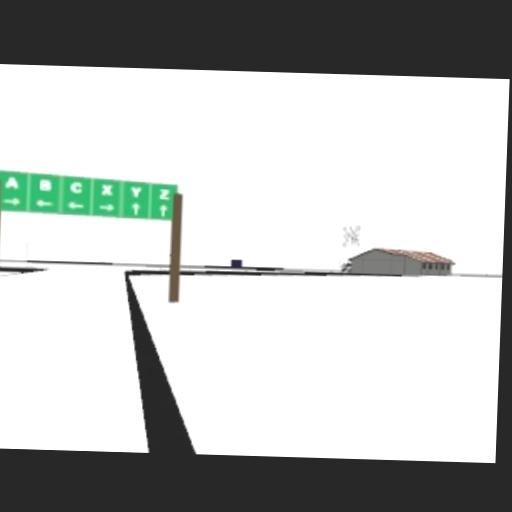A: (4, 176, 20, 191)
B: (38, 179, 52, 192)
C: (70, 180, 84, 197)
Left: (34, 199, 55, 210), (66, 200, 85, 211)
Right: (3, 196, 22, 207), (97, 202, 116, 213)
Straight: (131, 202, 142, 217), (158, 205, 169, 219)
X: (100, 183, 114, 198)
Y: (130, 185, 142, 199)
Z: (157, 187, 171, 201)
